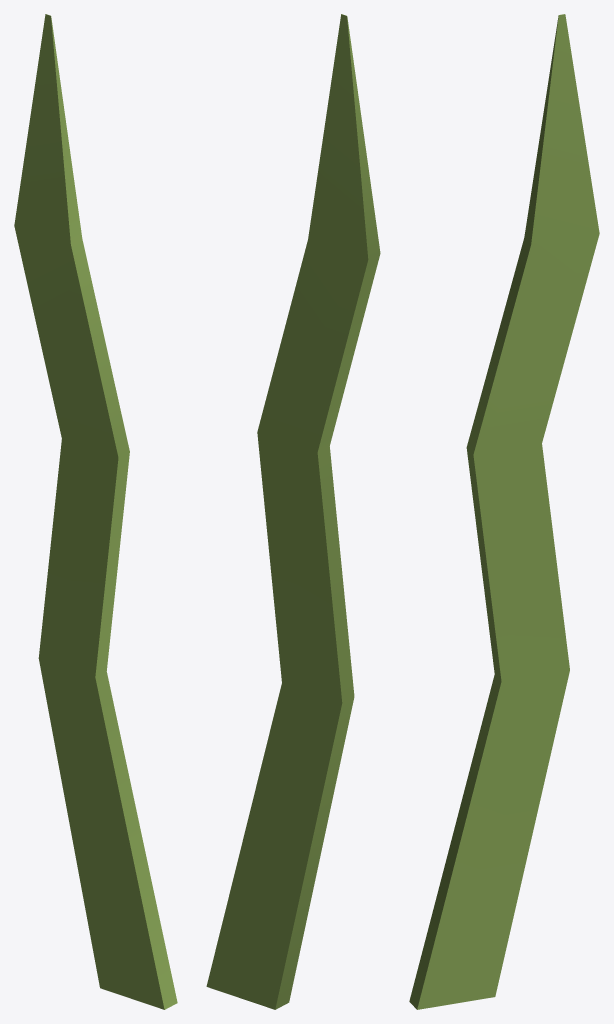
Rendered from rumput satuan kuning.fbx.
3 views of the same model, side by side, from view 1: azimuth 30°, elevation 25°; view 2: azimuth 210°, elevation 25°; view 3: azimuth 270°, elevation 25° (orthographic). The views are drawn at different scales.
Visible parts, largest first — view 1: polySurface5; view 2: polySurface5; view 3: polySurface5.
Part boxes in pixels (box(x1,y1,x2,y2)): polySurface5: box(14, 14, 177, 1009); polySurface5: box(206, 14, 380, 1009); polySurface5: box(409, 14, 599, 1009).
Size of the model in its own units: 2.37 by 27.99 by 5.
